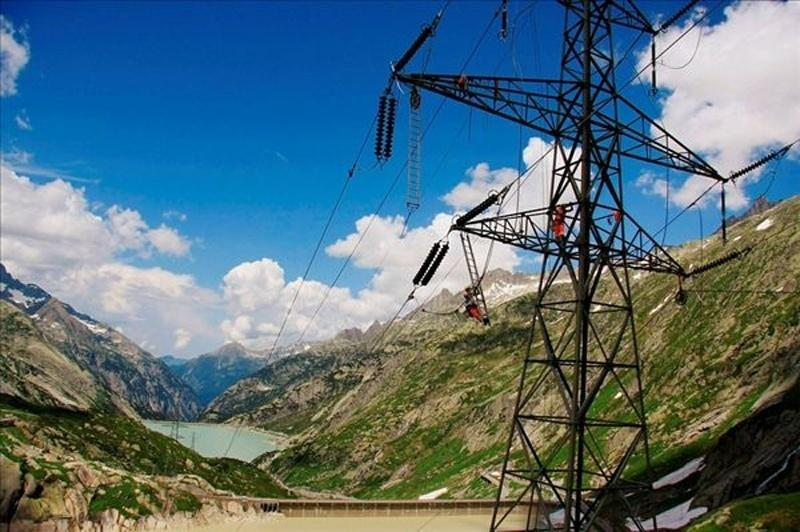power_tower: (362, 9, 738, 529)
